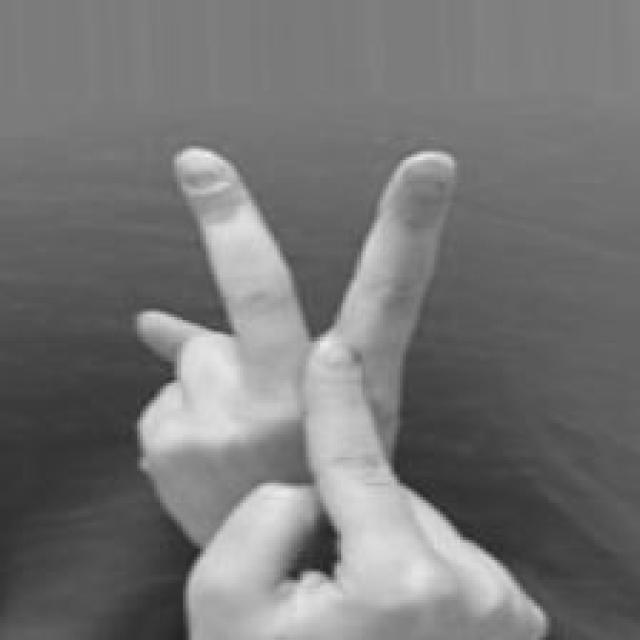Y: (130, 144, 547, 640)
